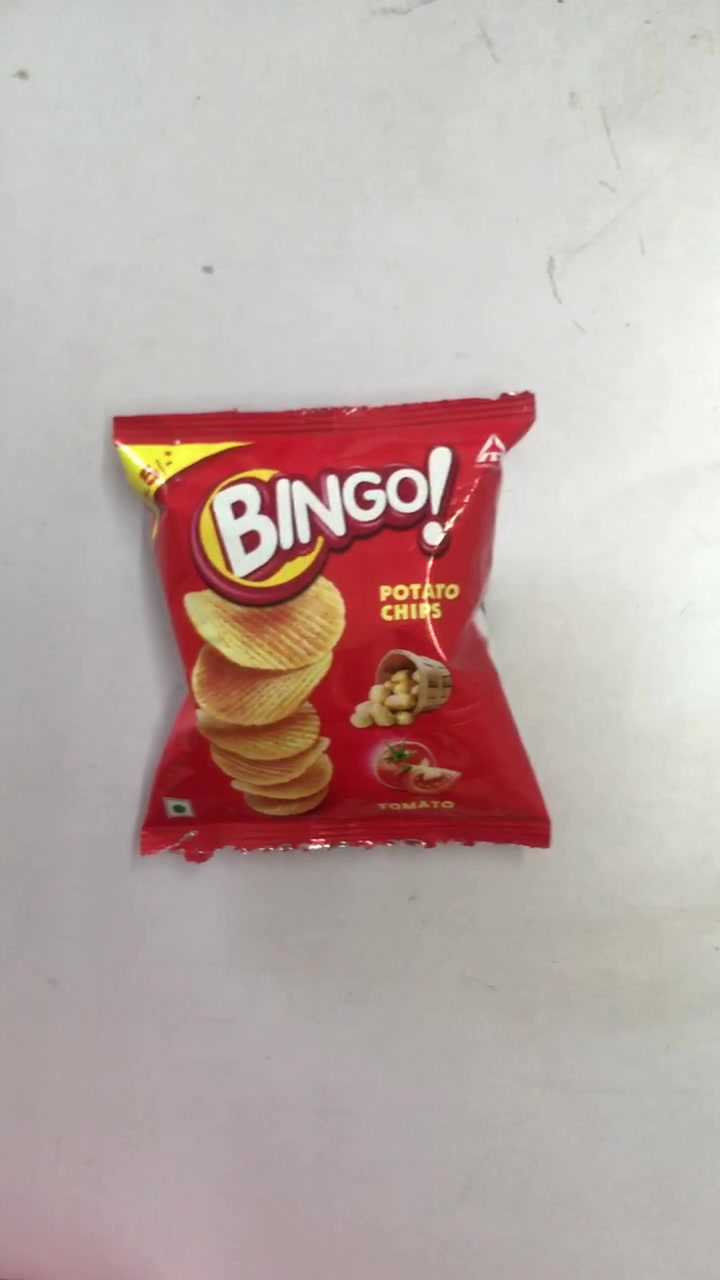Bingo: (114, 416, 541, 843)
